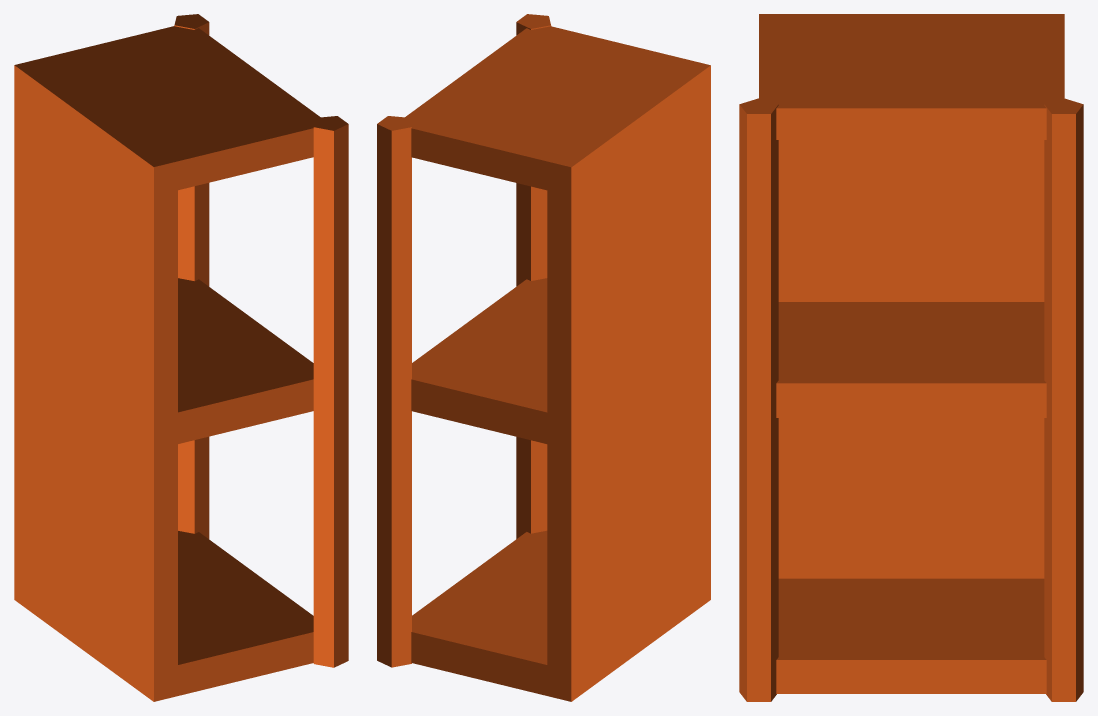
File: Wall Shelf.fbx
3 renders of one model, left to right at view 1: azimuth 30°, elevation 25°; view 2: azimuth 150°, elevation 25°; view 3: azimuth 270°, elevation 25°, orthographic. The views are drawn at different scales.
Parts seen in each view (by area): view 1: Node 0; view 2: Node 0; view 3: Node 0.
Part boxes in pixels (x1=…): Node 0: x1=14, y1=14, x2=348, y2=701; Node 0: x1=377, y1=14, x2=710, y2=701; Node 0: x1=739, y1=14, x2=1083, y2=701.
Size of the model in its own units: 0.563 by 1.06 by 0.3917.
